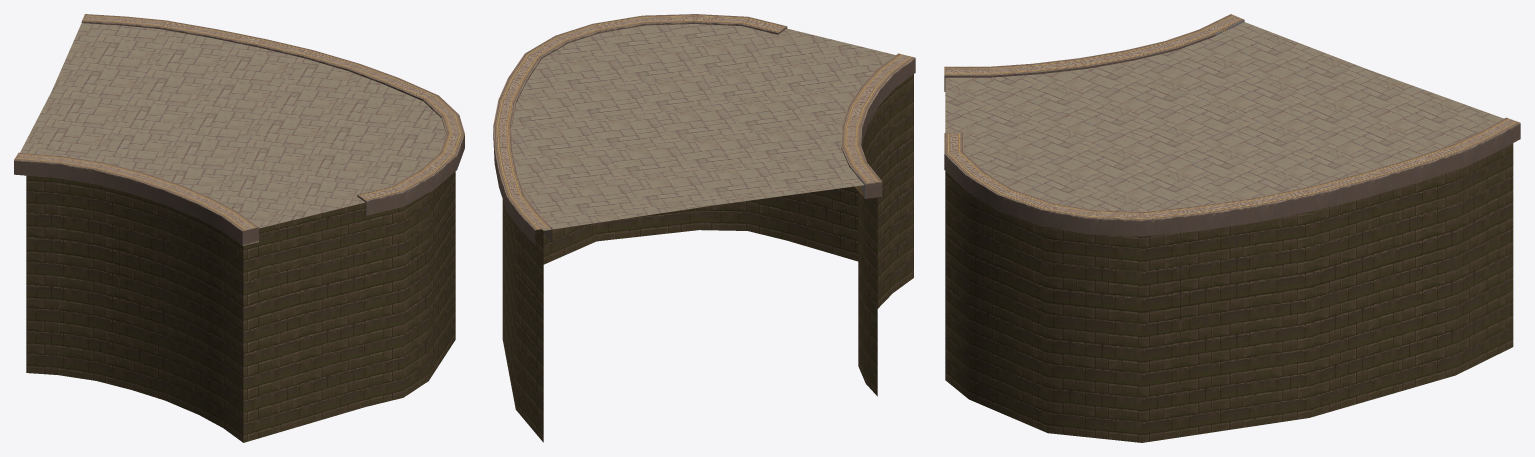
File: fb_jjc_dm_02.FBX
The picture shows the model from 3 angles, left to right: view 1: azimuth 30°, elevation 25°; view 2: azimuth 150°, elevation 25°; view 3: azimuth 270°, elevation 25°; orthographic projection. The views are drawn at different scales.
Parts seen in each view (by area): view 1: fb_jjc_dimian_02_c, fb_jjc_dimian_02_b, fb_jjc_dimian_02_a; view 2: fb_jjc_dimian_02_b, fb_jjc_dimian_02_c, fb_jjc_dimian_02_a; view 3: fb_jjc_dimian_02_c, fb_jjc_dimian_02_b, fb_jjc_dimian_02_a.
Part boxes in pixels (bbox=[...]): fb_jjc_dimian_02_c: bbox=[26, 171, 455, 442]; fb_jjc_dimian_02_b: bbox=[20, 23, 445, 228]; fb_jjc_dimian_02_a: bbox=[14, 14, 464, 245]; fb_jjc_dimian_02_b: bbox=[512, 24, 895, 230]; fb_jjc_dimian_02_c: bbox=[502, 74, 913, 442]; fb_jjc_dimian_02_a: bbox=[493, 14, 915, 245]; fb_jjc_dimian_02_c: bbox=[945, 143, 1513, 442]; fb_jjc_dimian_02_b: bbox=[945, 22, 1503, 211]; fb_jjc_dimian_02_a: bbox=[944, 14, 1520, 236].
Size of the model in its own units: 3848 by 2029 by 4541.
Materials: 3 (3 with a texture image).
